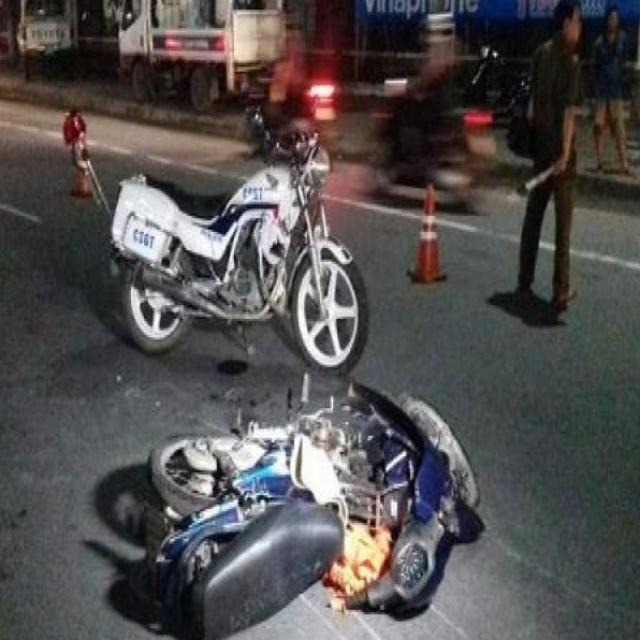accident: (126, 363, 490, 640)
